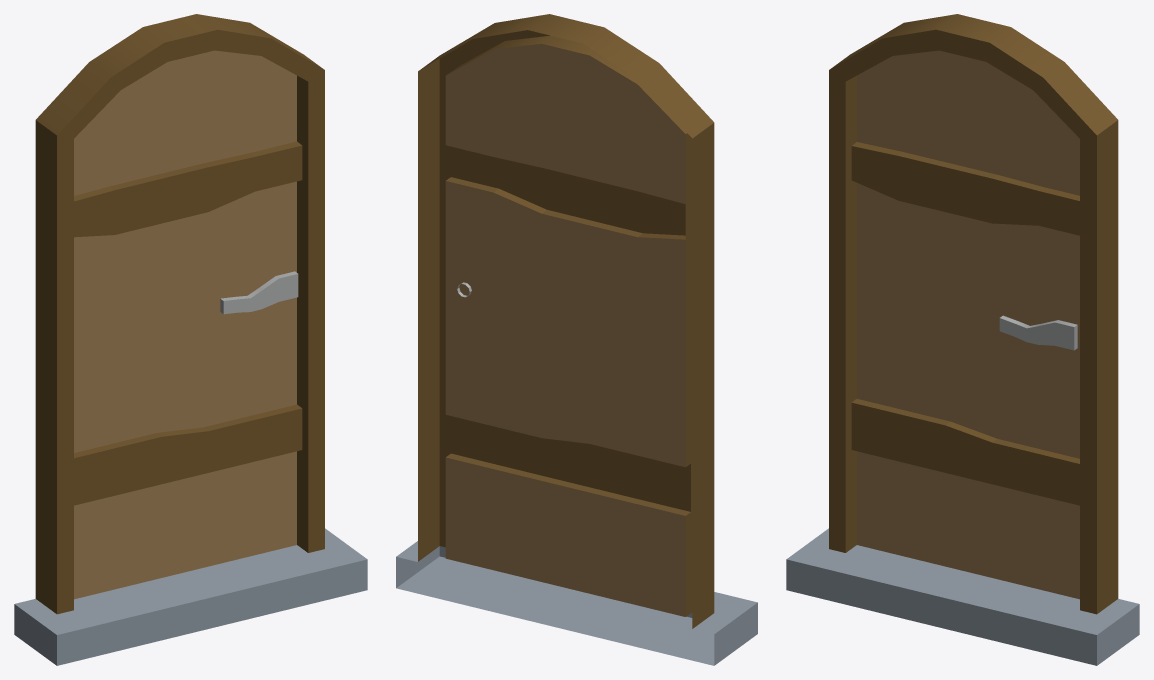
Rendered from Door.fbx.
3 views of the same model, side by side, from view 1: azimuth 30°, elevation 25°; view 2: azimuth 150°, elevation 25°; view 3: azimuth 330°, elevation 25° (orthographic). The views are drawn at different scales.
Visible parts, largest first — view 1: pCube256; view 2: pCube256; view 3: pCube256.
Boxes of the visible parts, x1,y1,x2,y2 form: pCube256: (14, 14, 367, 665); pCube256: (396, 14, 757, 665); pCube256: (786, 14, 1139, 665).
Size of the model in its own units: 175 by 310 by 41.6.
